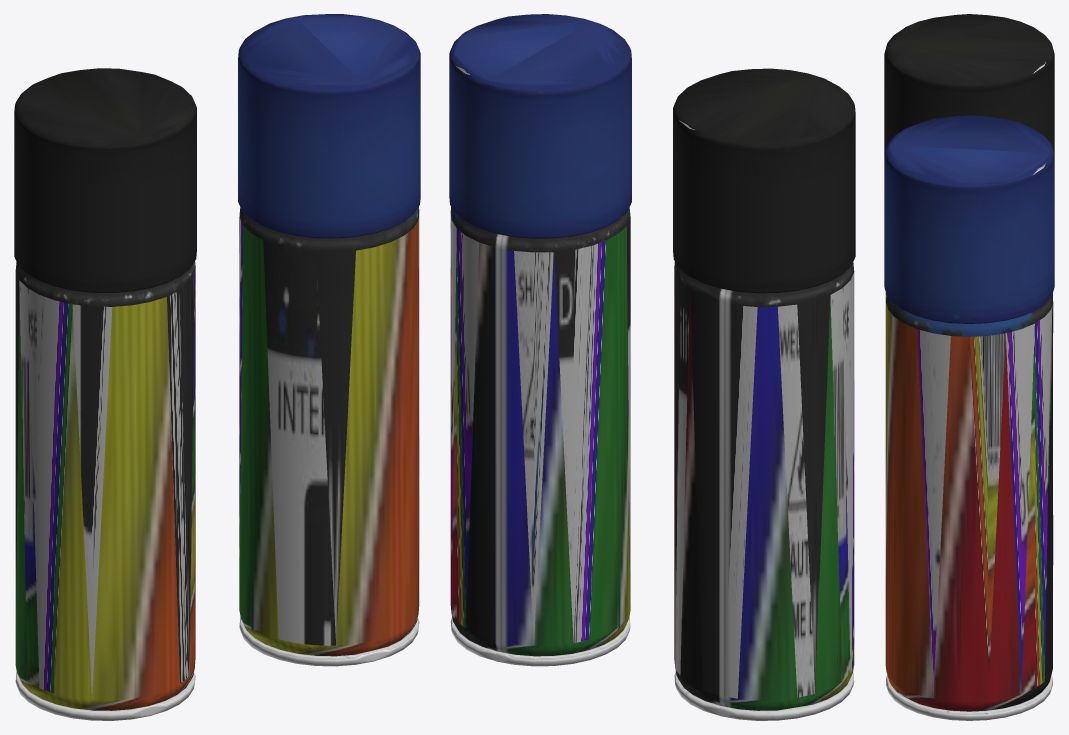
Rendered from spray-paint-bottles.glb.
3 views of the same model, side by side, from view 1: azimuth 30°, elevation 25°; view 2: azimuth 150°, elevation 25°; view 3: azimuth 270°, elevation 25° (orthographic). The views are drawn at different scales.
Parts seen in each view (by area): view 1: spray_paint_bottles; view 2: spray_paint_bottles; view 3: spray_paint_bottles.
Boxes of the visible parts, box(x1,y1,x2,y2) form: spray_paint_bottles: box(14, 14, 420, 720); spray_paint_bottles: box(449, 14, 855, 720); spray_paint_bottles: box(884, 14, 1054, 720).
Bounding box in the file's own units: 0.1582 × 0.2286 × 0.0657.
Materials: 2 (2 with a texture image).
